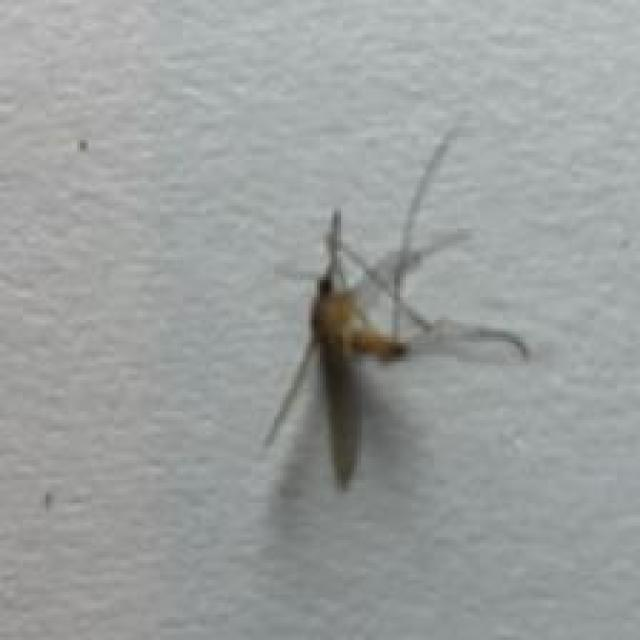Culex: (258, 121, 533, 493)
